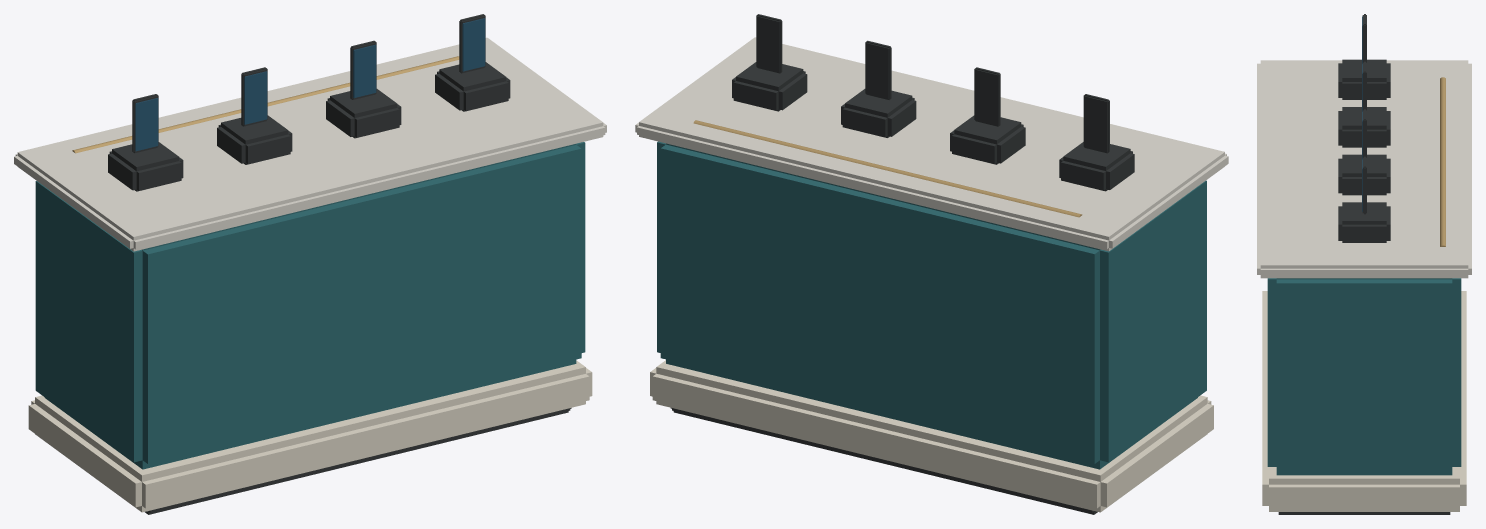
File: collection_v29_mobile_0.glb
3 renders of one model, left to right at view 1: azimuth 30°, elevation 25°; view 2: azimuth 150°, elevation 25°; view 3: azimuth 270°, elevation 25°, orthographic. The views are drawn at different scales.
Visible parts, largest first — view 1: collection_v29_mobile_0_V29_petrol_enamel, collection_v29_mobile_0_Honed_solid_surface, collection_v29_mobile_0_V29_ivory_lacquer, collection_v29_mobile_0_Anodised_graphite, collection_v29_mobile_0_Satin_champagne, collection_v29_mobile_0_FY21_display_screen.003, collection_v29_mobile_0_FY21_display_screen.001, collection_v29_mobile_0_FY21_display_screen, collection_v29_mobile_0_FY21_display_screen.002; view 2: collection_v29_mobile_0_V29_petrol_enamel, collection_v29_mobile_0_Honed_solid_surface, collection_v29_mobile_0_V29_ivory_lacquer, collection_v29_mobile_0_Anodised_graphite, collection_v29_mobile_0_Satin_champagne, collection_v29_mobile_0_Anodised_graphite.014, collection_v29_mobile_0_Anodised_graphite.016, collection_v29_mobile_0_Anodised_graphite.017, collection_v29_mobile_0_Anodised_graphite.015; view 3: collection_v29_mobile_0_V29_petrol_enamel, collection_v29_mobile_0_Honed_solid_surface, collection_v29_mobile_0_V29_ivory_lacquer, collection_v29_mobile_0_Anodised_graphite, collection_v29_mobile_0_Satin_champagne, collection_v29_mobile_0_Anodised_graphite.017.
Part boxes in pixels (x1,y1,x2,y2): collection_v29_mobile_0_V29_petrol_enamel: (35, 142, 585, 469); collection_v29_mobile_0_Honed_solid_surface: (14, 37, 606, 251); collection_v29_mobile_0_V29_ivory_lacquer: (28, 360, 592, 512); collection_v29_mobile_0_Anodised_graphite: (108, 62, 571, 514); collection_v29_mobile_0_Satin_champagne: (72, 56, 459, 153); collection_v29_mobile_0_FY21_display_screen.003: (462, 18, 485, 71); collection_v29_mobile_0_FY21_display_screen.001: (244, 71, 267, 124); collection_v29_mobile_0_FY21_display_screen: (135, 98, 158, 151); collection_v29_mobile_0_FY21_display_screen.002: (353, 44, 376, 97); collection_v29_mobile_0_V29_petrol_enamel: (657, 141, 1206, 469); collection_v29_mobile_0_Honed_solid_surface: (635, 37, 1228, 251); collection_v29_mobile_0_V29_ivory_lacquer: (650, 360, 1213, 512); collection_v29_mobile_0_Anodised_graphite: (670, 62, 1134, 514); collection_v29_mobile_0_Satin_champagne: (693, 120, 1082, 217); collection_v29_mobile_0_Anodised_graphite.014: (1083, 94, 1109, 153); collection_v29_mobile_0_Anodised_graphite.016: (865, 40, 891, 99); collection_v29_mobile_0_Anodised_graphite.017: (756, 14, 782, 73); collection_v29_mobile_0_Anodised_graphite.015: (974, 67, 1000, 126); collection_v29_mobile_0_V29_petrol_enamel: (1267, 278, 1461, 475); collection_v29_mobile_0_Honed_solid_surface: (1257, 60, 1471, 278); collection_v29_mobile_0_V29_ivory_lacquer: (1262, 291, 1466, 511); collection_v29_mobile_0_Anodised_graphite: (1278, 59, 1450, 514); collection_v29_mobile_0_Satin_champagne: (1440, 77, 1445, 246); collection_v29_mobile_0_Anodised_graphite.017: (1362, 156, 1366, 214).
Bounding box in the file's own units: 1.88 × 1.4 × 0.82.
